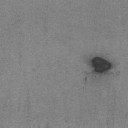iron sheet ash: (92, 56, 112, 74)
